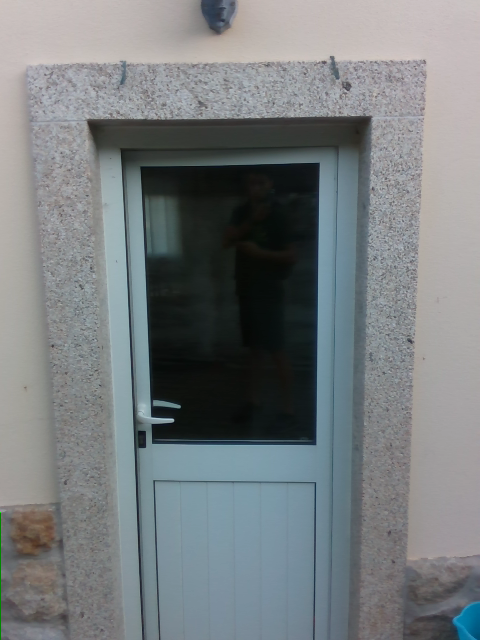closed: (90, 123, 367, 639)
